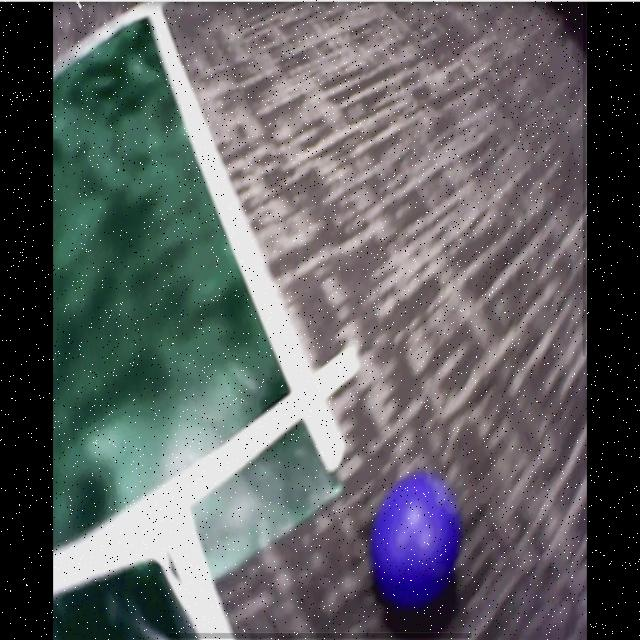ball: (373, 480, 460, 612)
